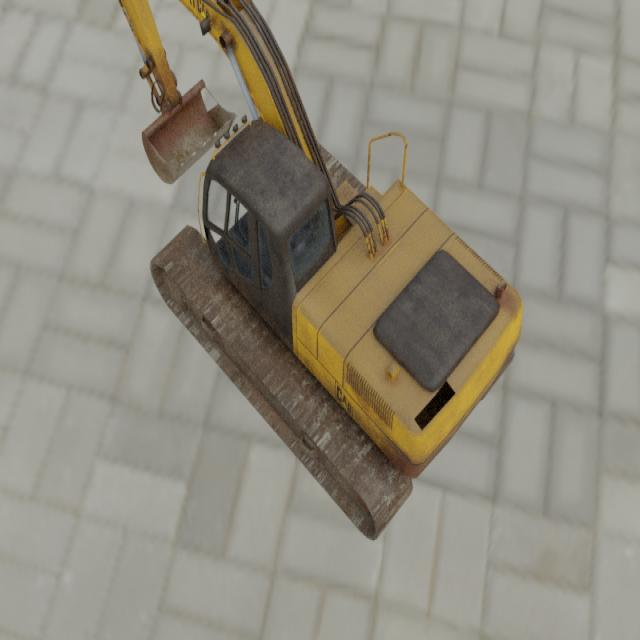excavator: (117, 0, 523, 543)
